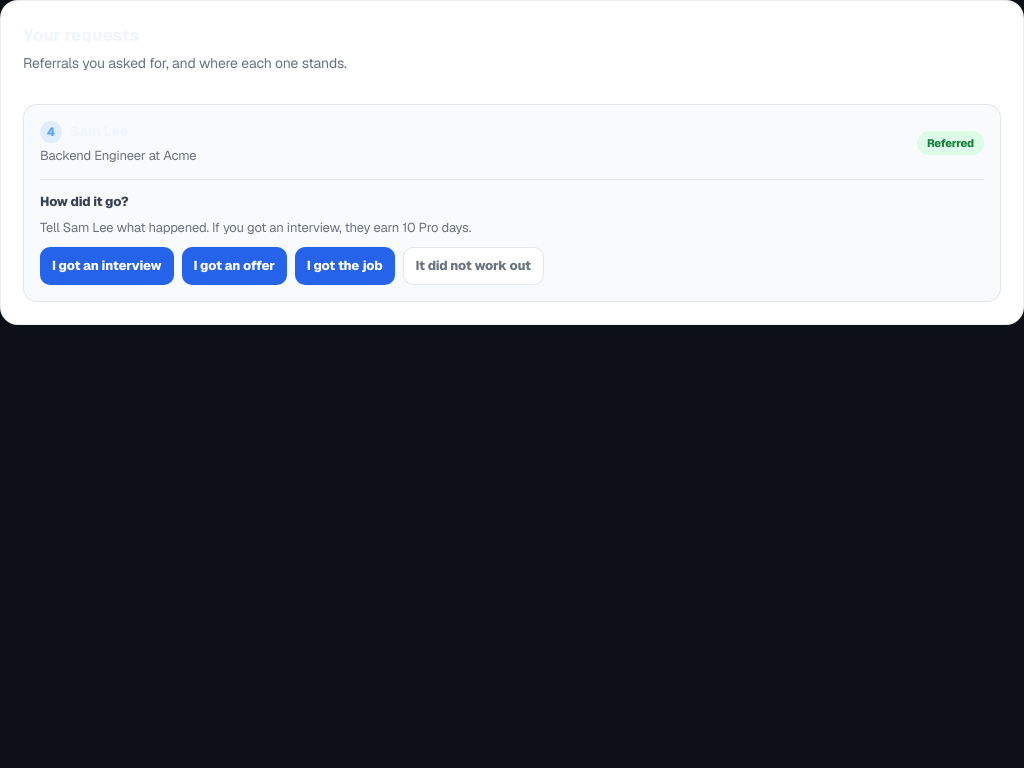
SentReferralsCard › reports an interview and tells the candidate what the referrer earned
Click the button "I got an interview": (107, 266) [40,247,174,284]
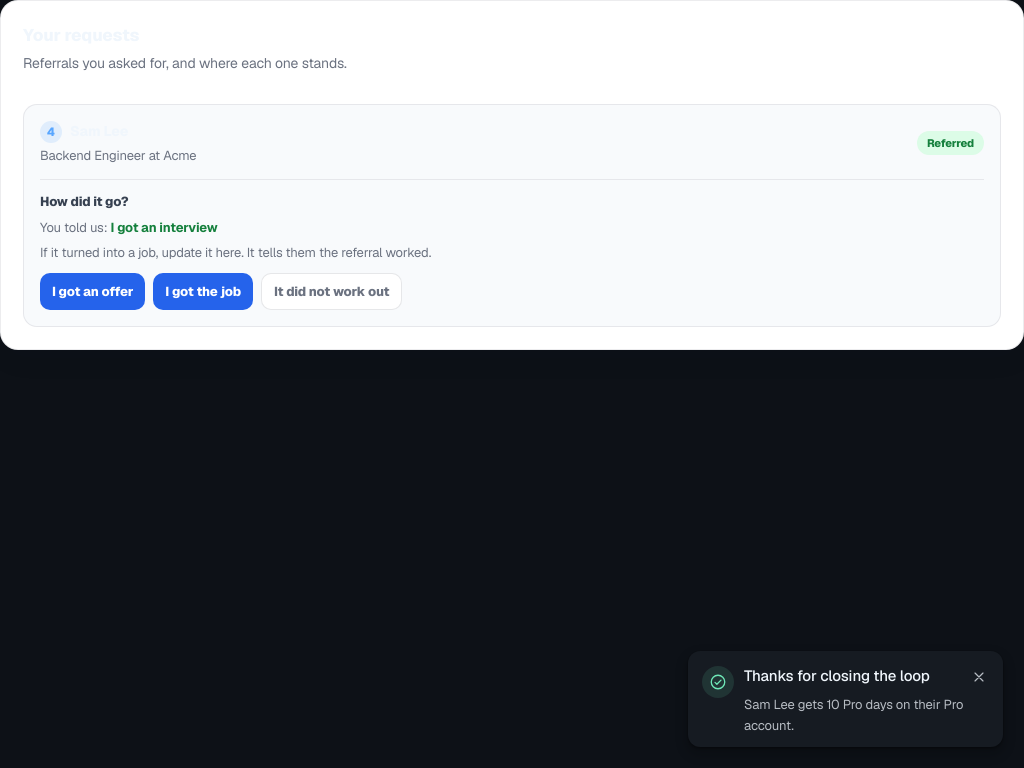
expect the text "Sam Lee gets 10 Pro days on their Pro account." is shown: met, box [744,694,989,737]
expect the text "You told us: I got an interview" is shown: met, box [40,218,218,236]
